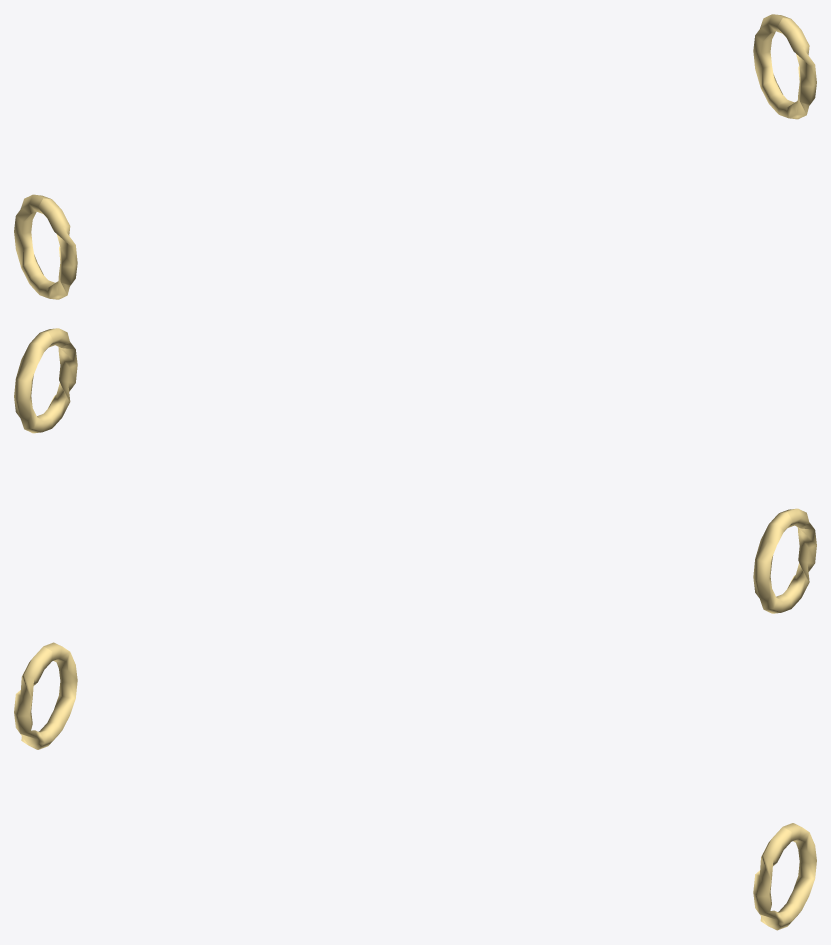
Rendered from brinco_argola.glb.
The picture shows the model from 3 angles, top to bottom: view 1: azimuth 30°, elevation 25°; view 2: azimuth 150°, elevation 25°; view 3: azimuth 330°, elevation 25°; orthographic projection.
Visible parts, largest first — view 1: brinco_argola; view 2: brinco_argola; view 3: brinco_argola.
Boxes of the visible parts, <box> form: brinco_argola: <box>14,14,816,299</box>; brinco_argola: <box>14,328,816,613</box>; brinco_argola: <box>14,642,816,930</box>.
Bounding box in the file's own units: 0.1714 × 0.0214 × 0.0216.
